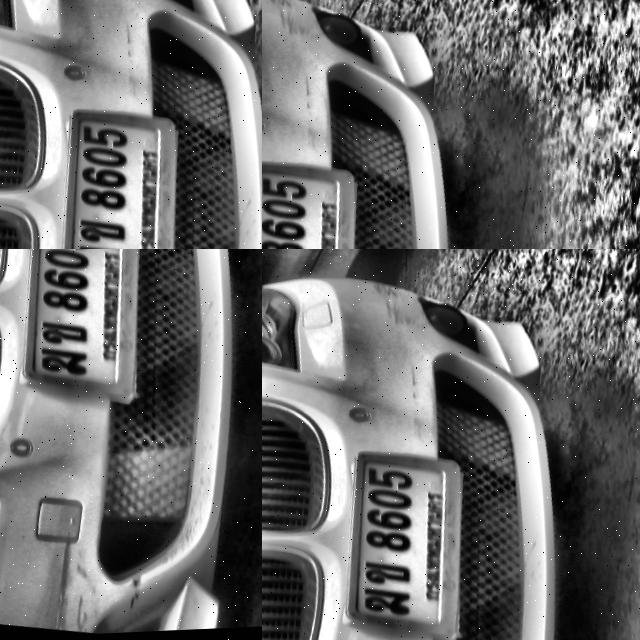license-plate: (335, 449, 471, 640)
